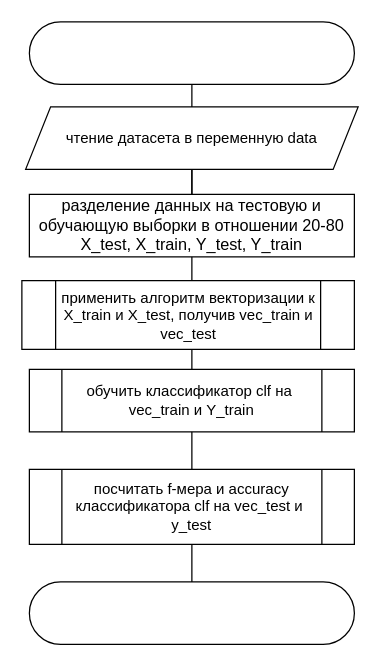
This 380x666 diagram has some shape labels left out. The shapes that lost their labels are listed below. From the top down, each one's centre as x and y in pixels, then its label:
point (191, 52): Начало
point (191, 612): конец
